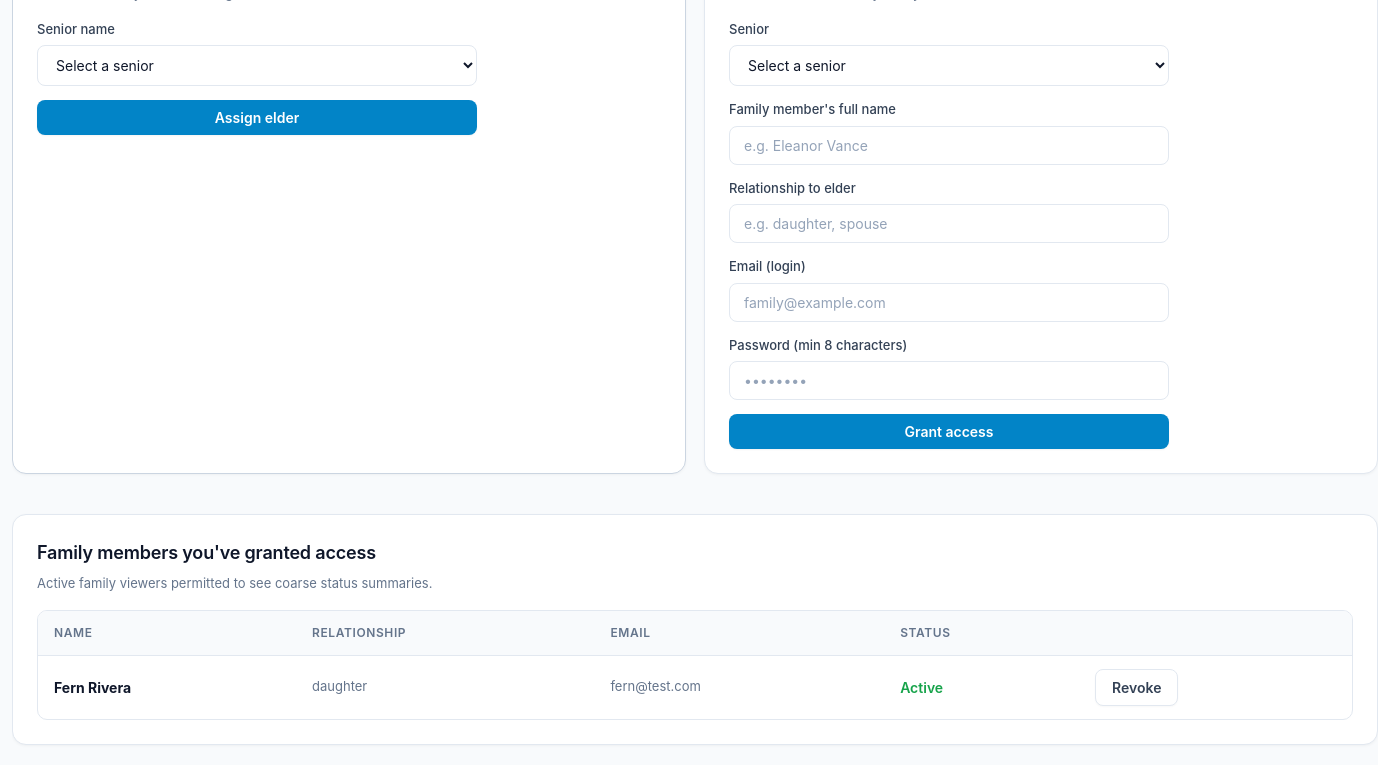
Scenario: AccessManagement › revokes a family member and removes the row
(page scrolled)
Expected: the text "Fern Rivera" is shown, [54,678,131,696]
Step 1. Click the button "Revoke" → point(1137, 687), box [1095,668,1178,706]
(page scrolled)
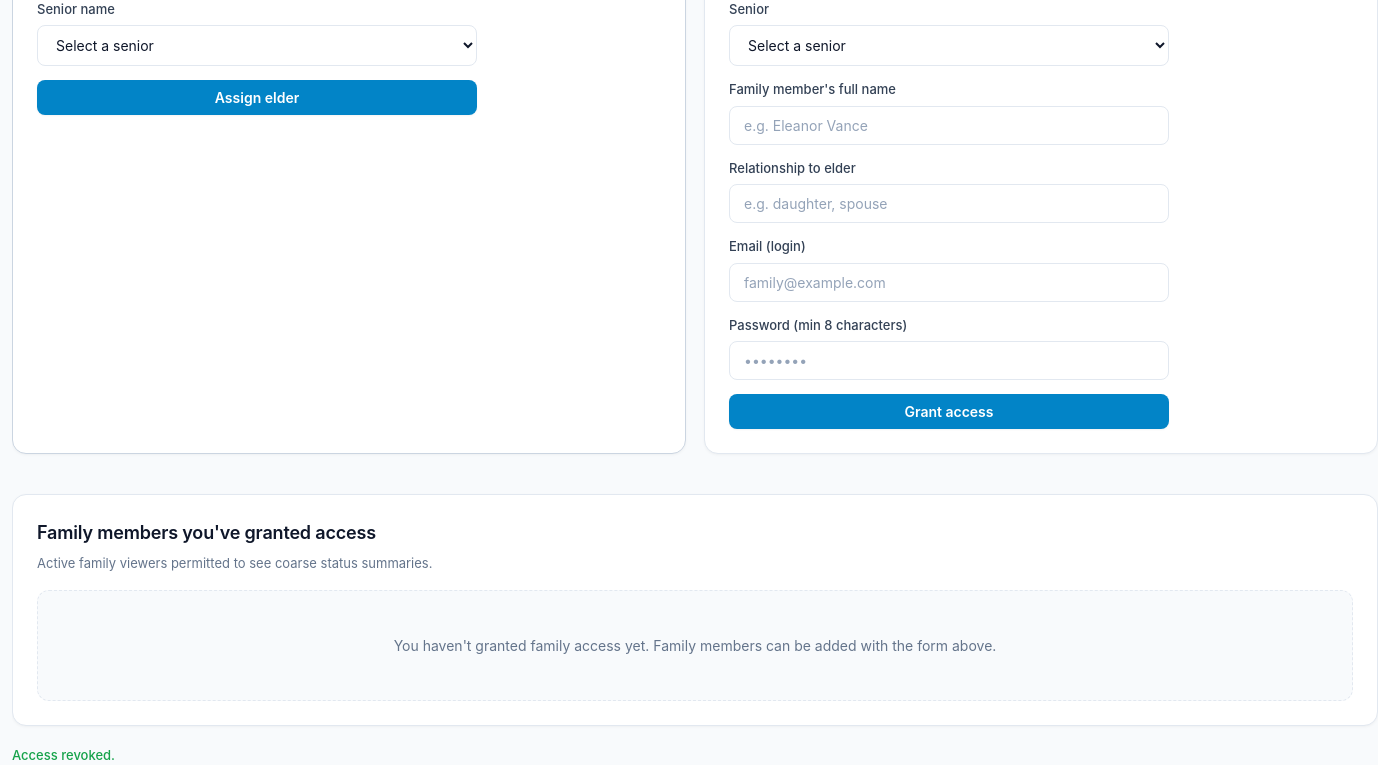
Expected: the text "Access revoked." is shown, [12,746,115,762]
Expected: the text "Fern Rivera" is gone
